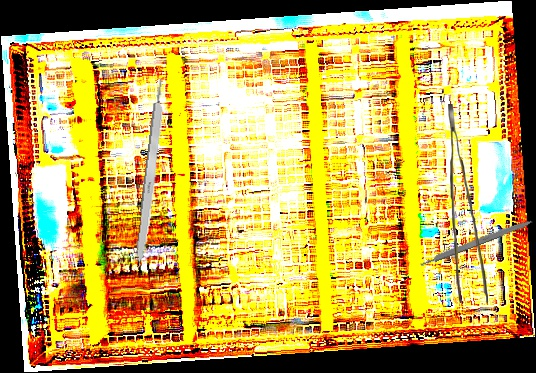Scalpel Handle: (133, 75, 170, 270), (418, 216, 535, 268)
Tissue Forceps: (448, 104, 488, 303)
